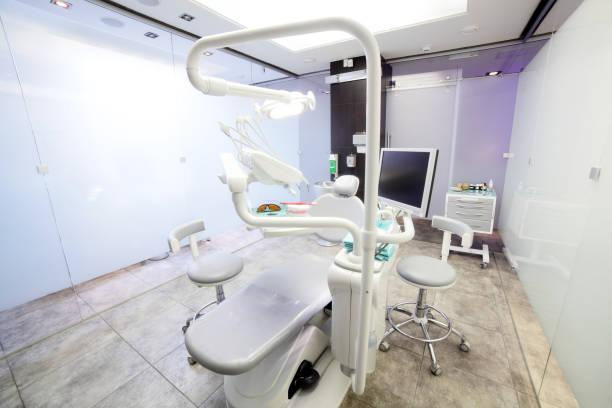Monitor: (365, 138, 440, 229)
chair: (388, 209, 478, 380), (164, 208, 239, 342)
